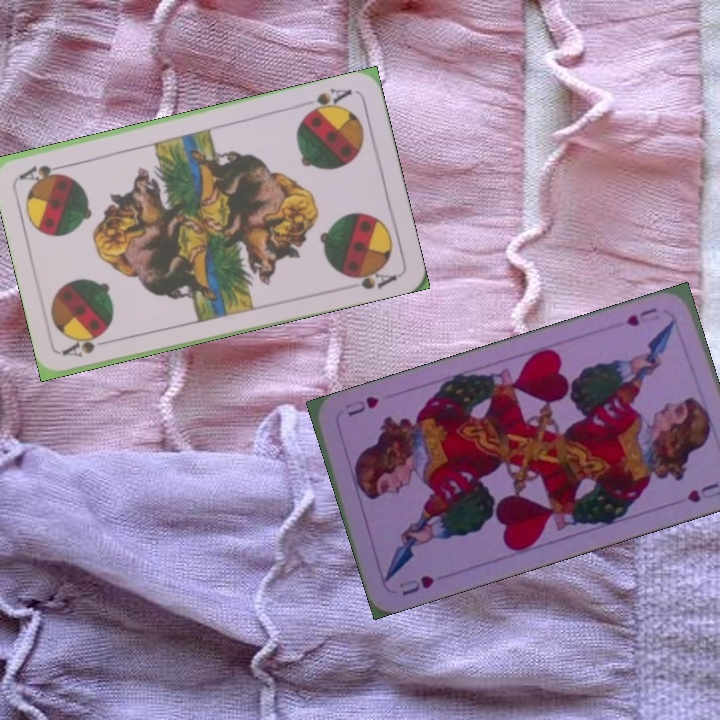HU: (395, 571, 437, 598), (622, 303, 660, 329)
SA: (301, 83, 355, 118), (59, 330, 117, 361)
